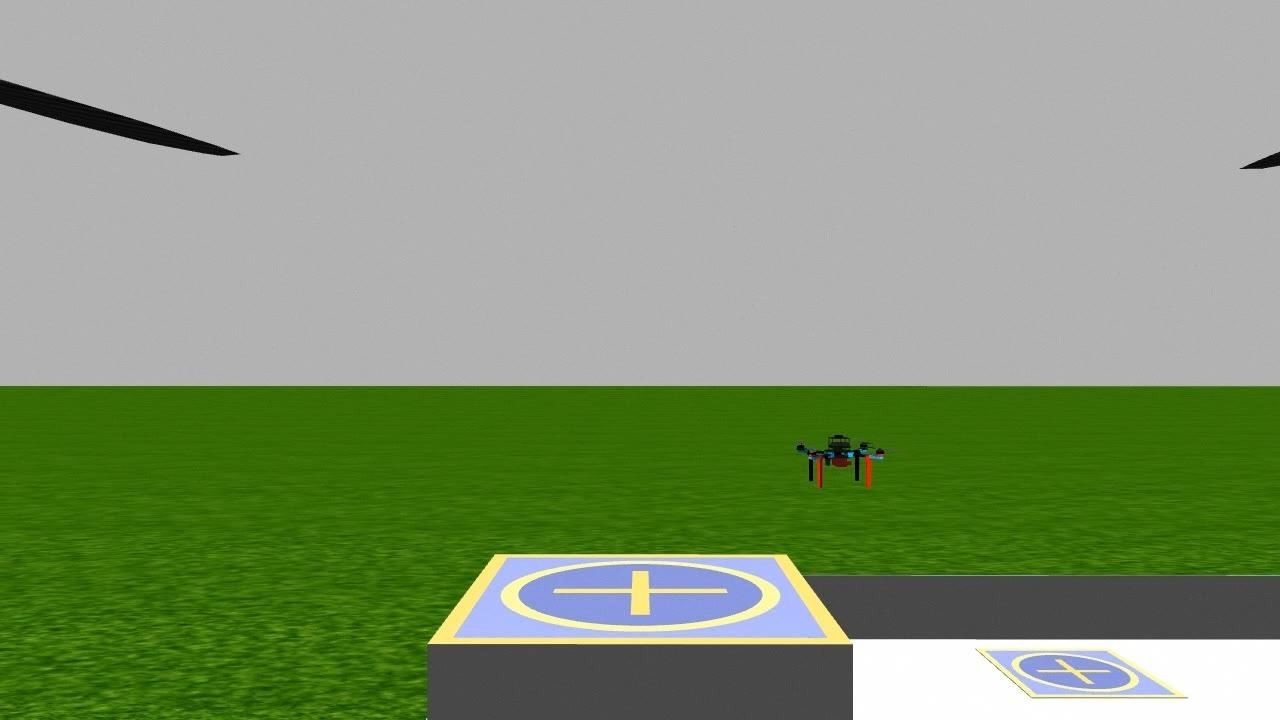UAV: (779, 424, 901, 500)
